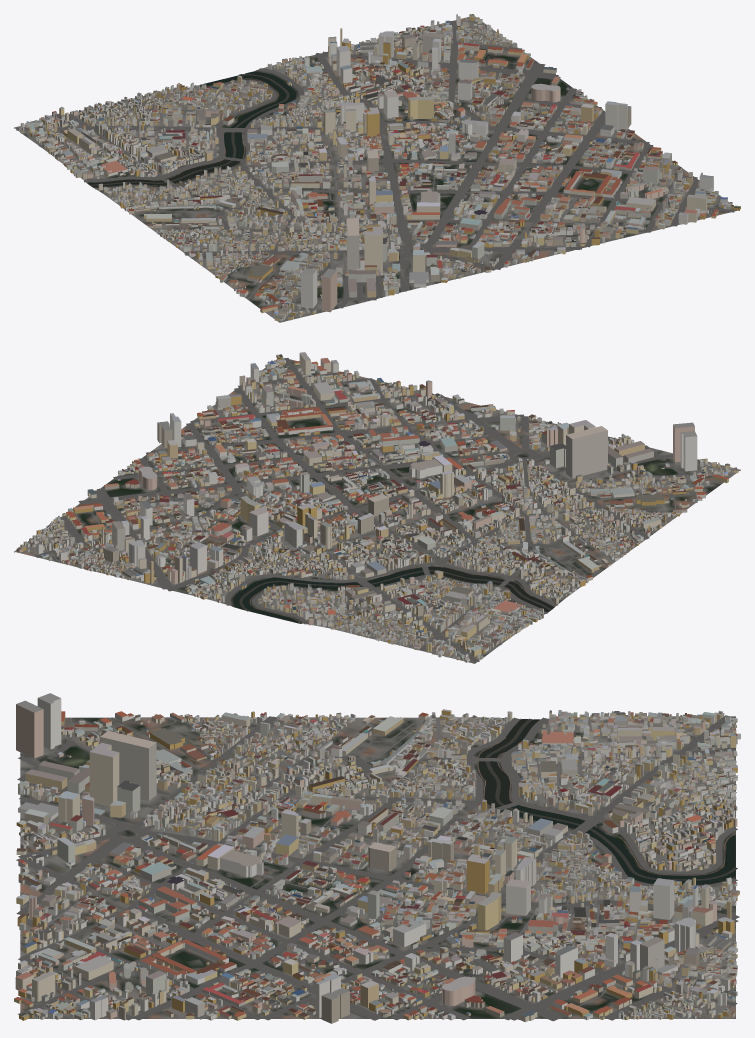
3 renders of one model, top to bottom at view 1: azimuth 30°, elevation 25°; view 2: azimuth 150°, elevation 25°; view 3: azimuth 270°, elevation 25°, orthographic. The views are drawn at different scales.
Parts seen in each view (by area): view 1: buildings, ground, roads, water; view 2: buildings, ground, roads, water; view 3: buildings, ground, roads, water.
Boxes of the visible parts, box(x1,y1,x2,y2) form: buildings: box(18, 14, 740, 321); ground: box(14, 16, 739, 322); roads: box(16, 17, 734, 321); water: box(87, 71, 400, 187); buildings: box(16, 352, 738, 662); ground: box(14, 357, 740, 663); roads: box(20, 358, 733, 662); water: box(233, 566, 553, 622); buildings: box(14, 693, 740, 1023); ground: box(20, 716, 735, 1018); roads: box(16, 715, 739, 1021); water: box(478, 718, 737, 926).
Bounding box in the file's own units: 1431 × 122 × 1423.
